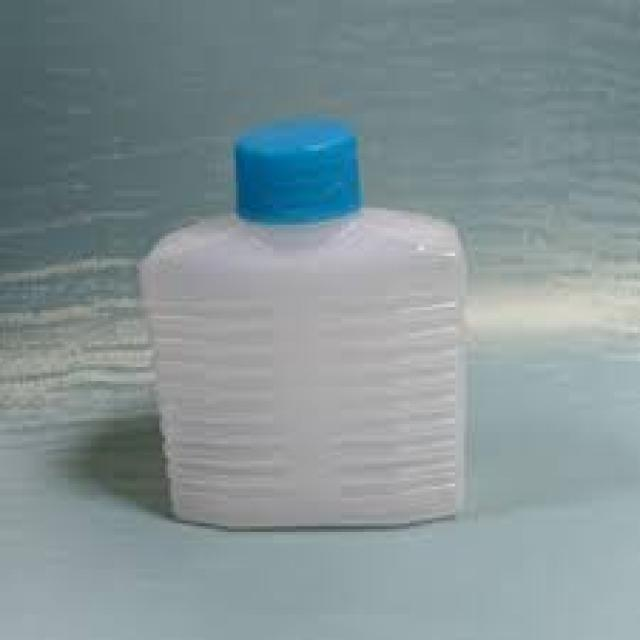Plastic: (136, 116, 466, 528)
